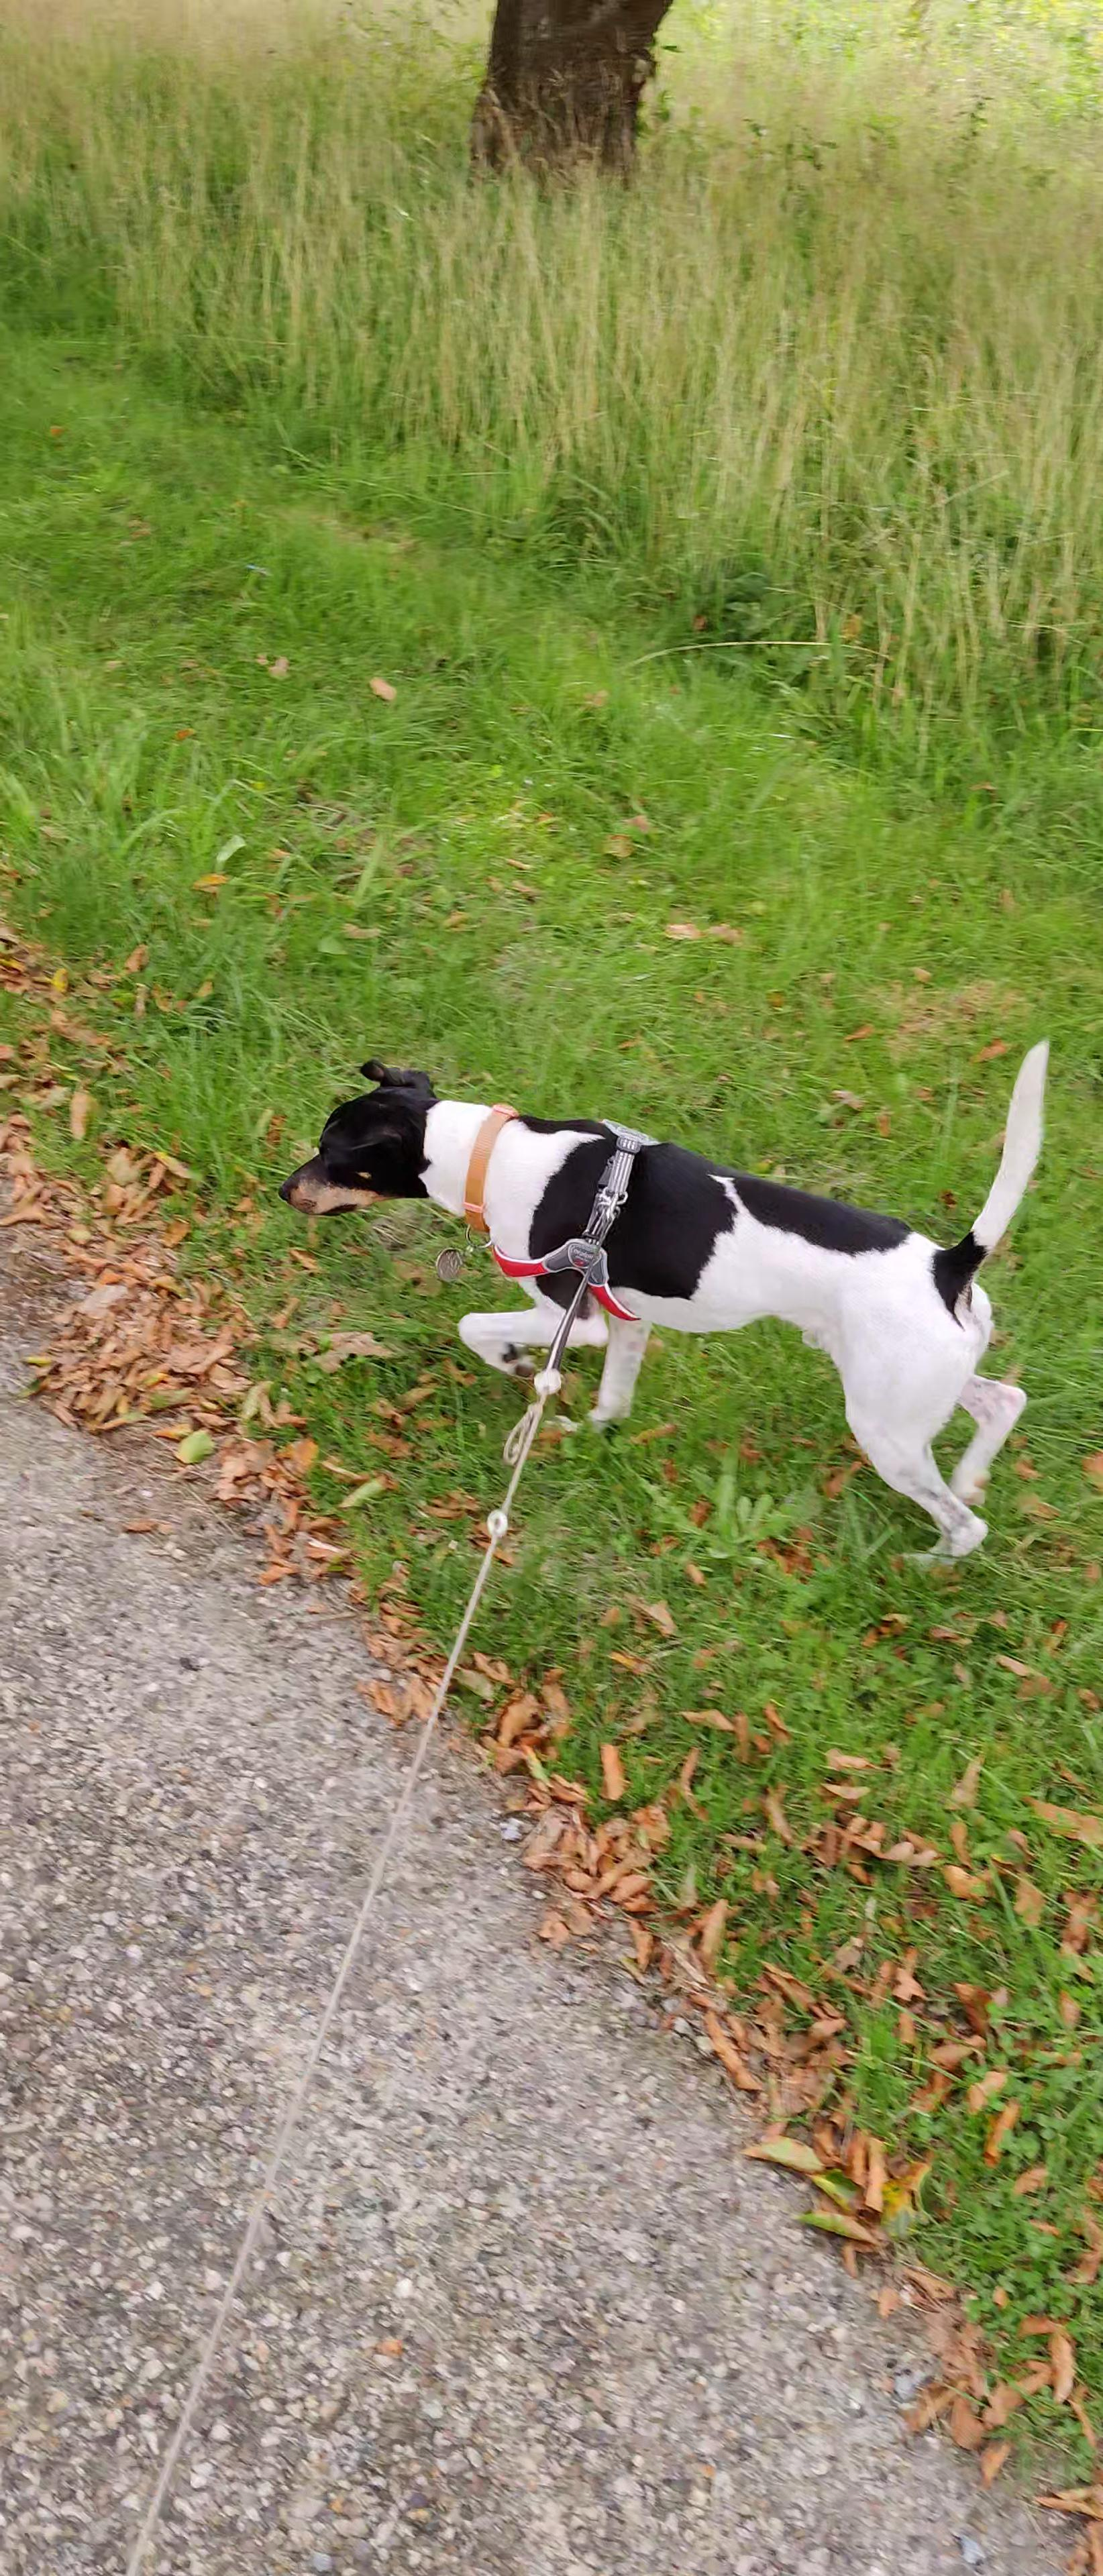Dog: (255, 1020, 1065, 1579)
